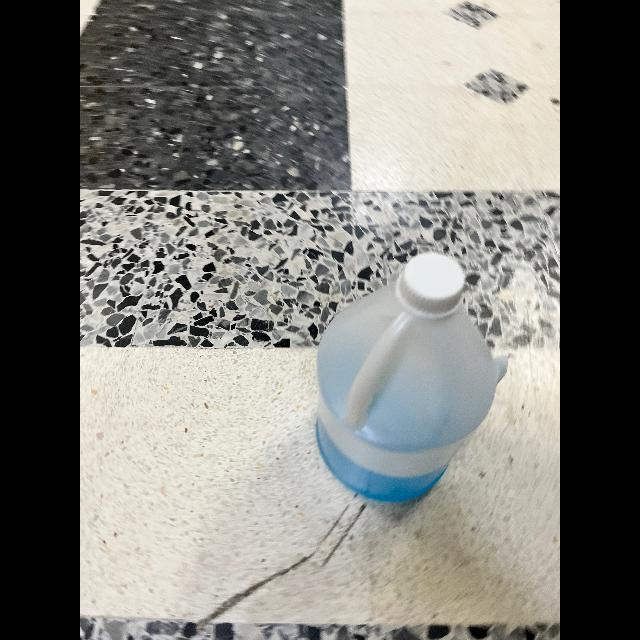chemical_plastic_gallon: (304, 212, 504, 514)
